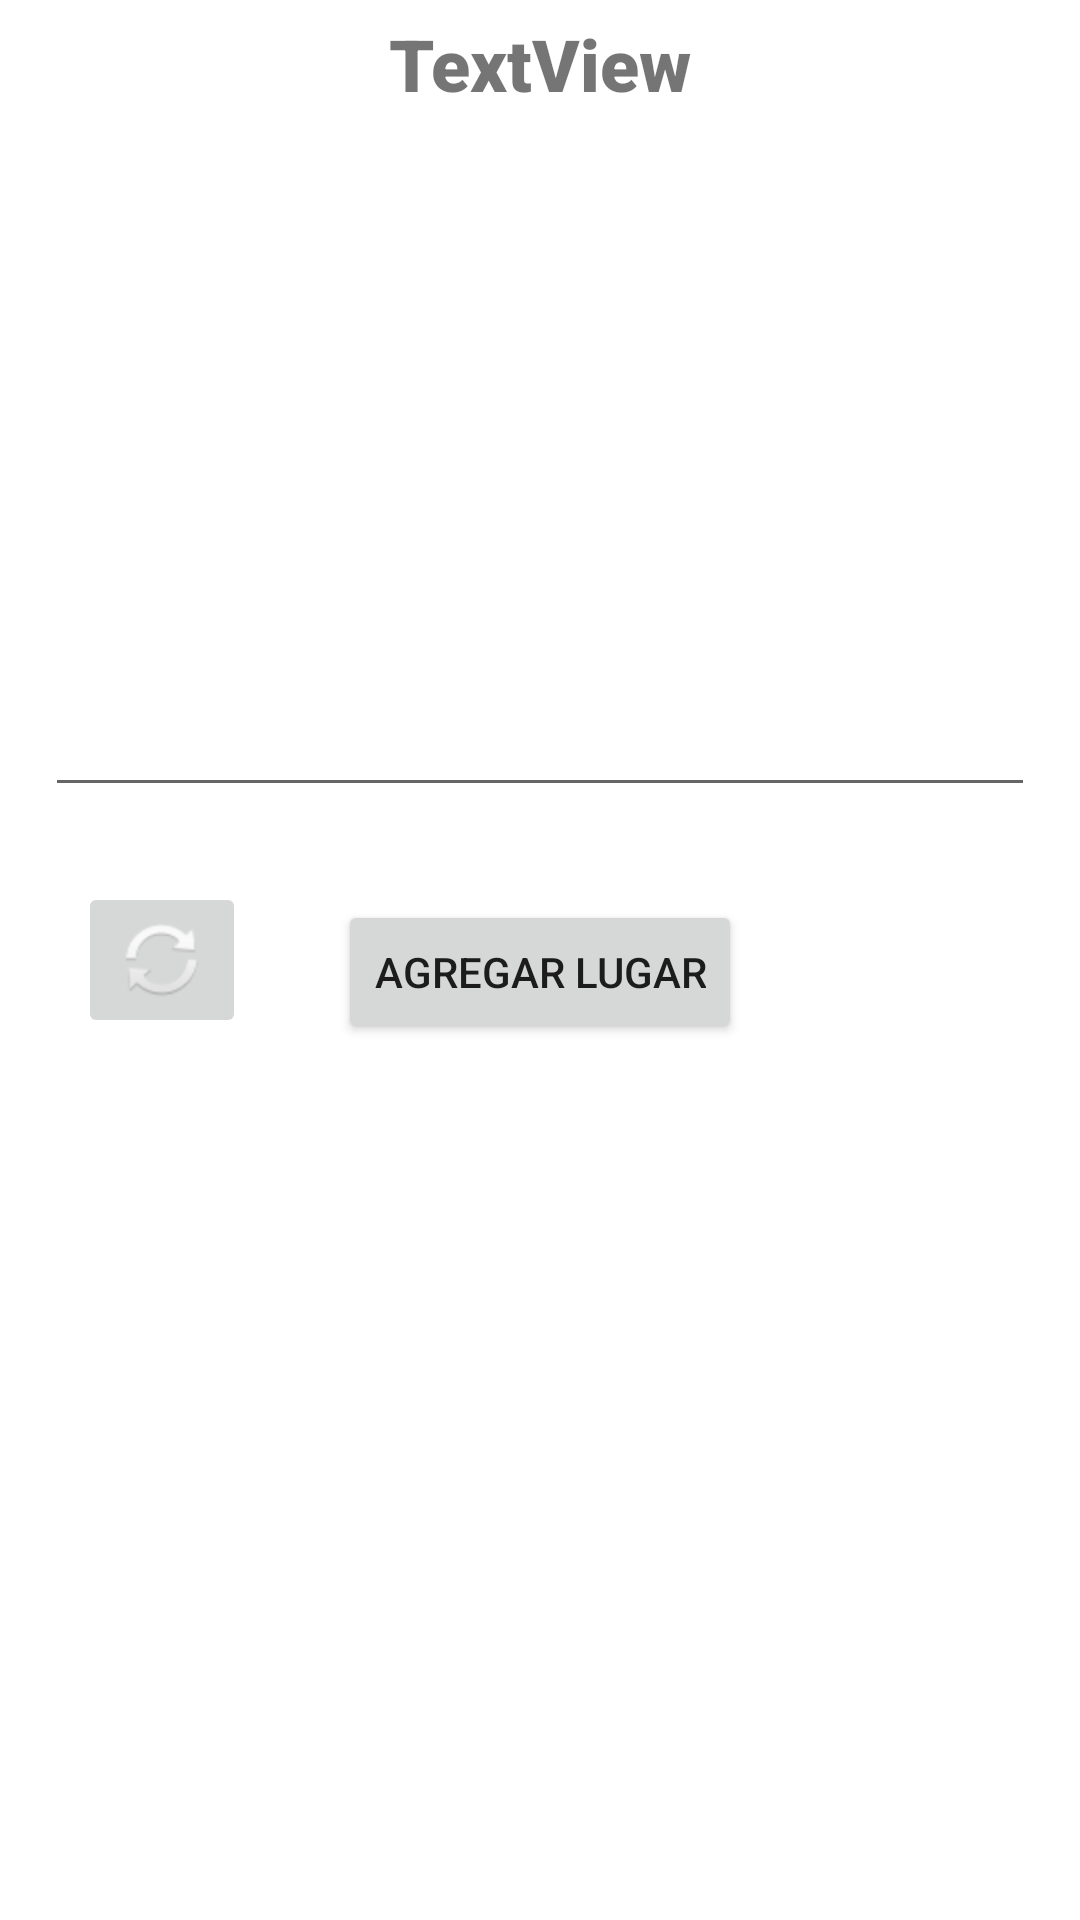

Where icons sit on this 1080 × 1920 app screen, as detection(x1, y1, x2, y2):
popup sync: detection(90, 900, 234, 1020)
